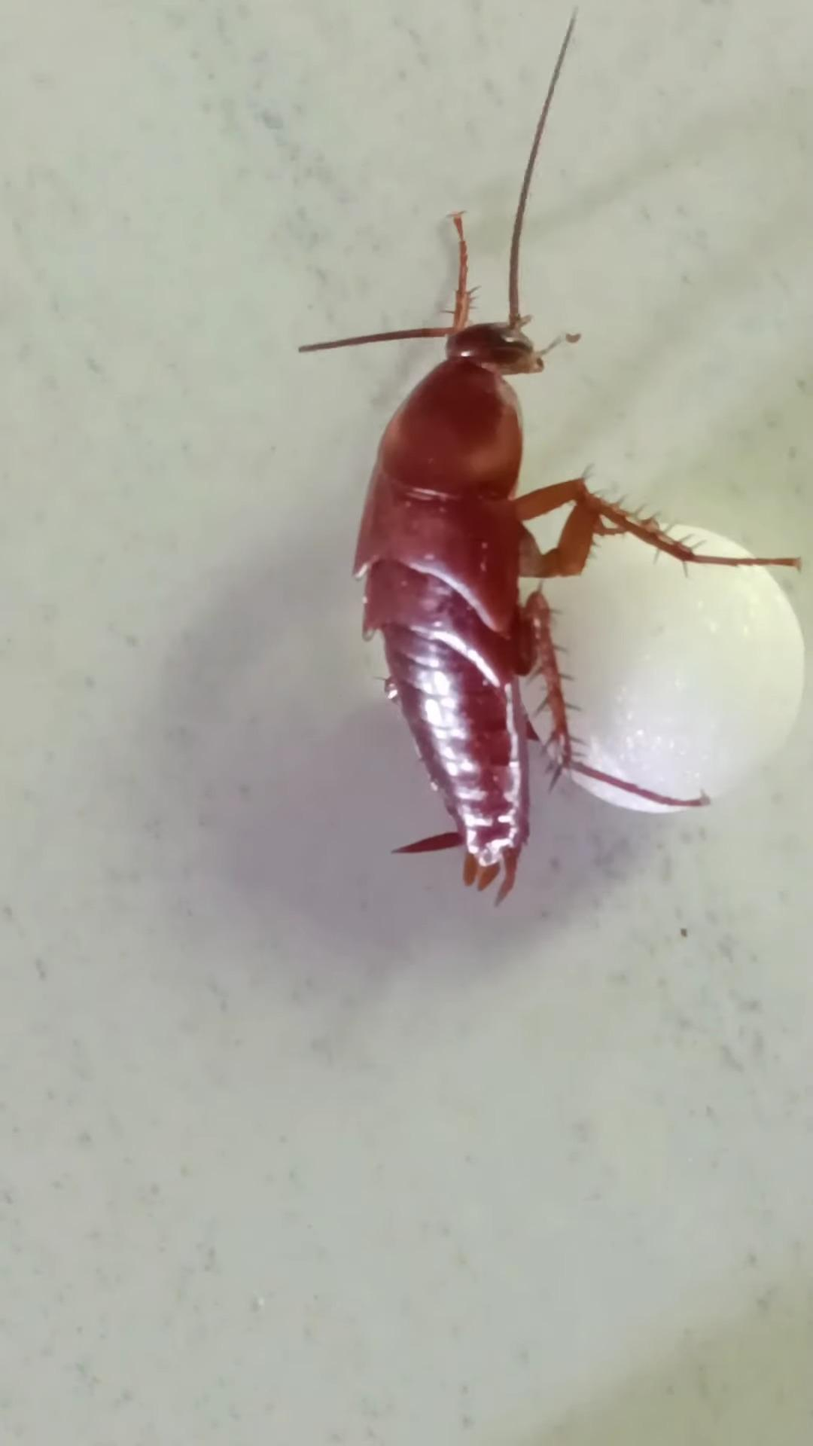cockroach: (264, 144, 547, 916)
